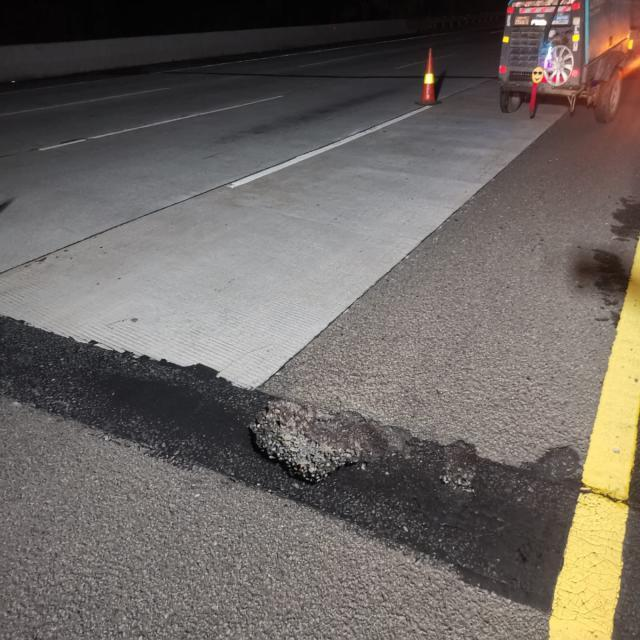Buraco: (239, 396, 376, 489)
